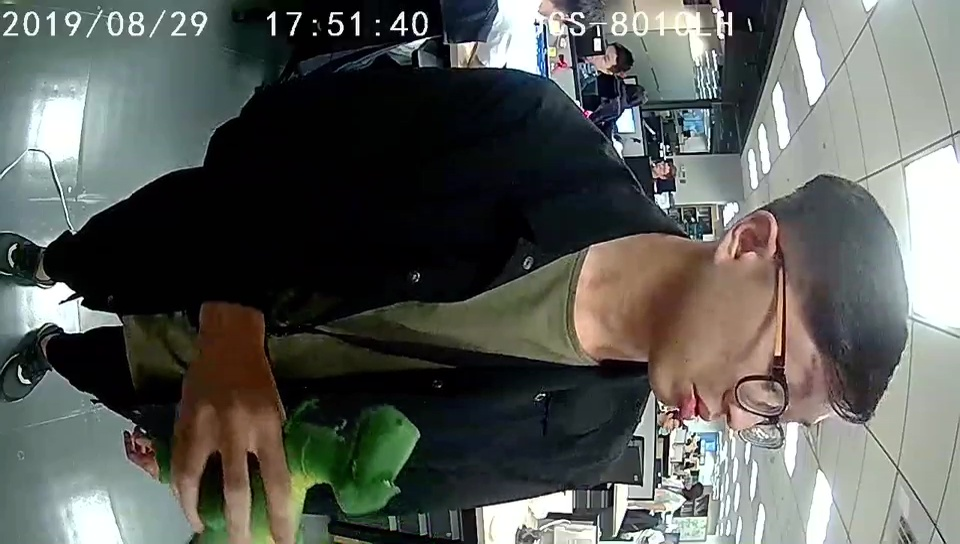rex: (151, 396, 418, 544)
